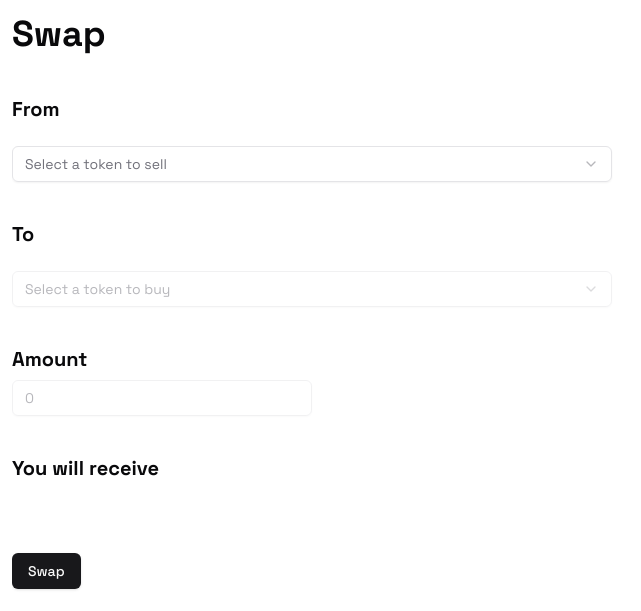
Scenario: Swap preparation › should display the balance related to the token selected to sell
The image size is (641, 611).
What coordinates should you click on to do the following:
click the dropdown named "from-token-select"
I would click on:
 (96, 164)
Its box is top-left (12, 146), bottom-right (612, 182).
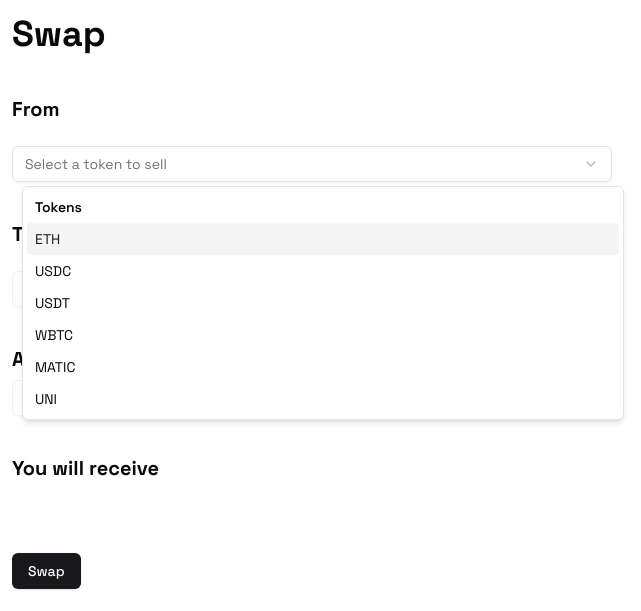
What coordinates should you click on to do the following:
click the option "USDC"
I would click on:
 (53, 271)
Its box is top-left (35, 262), bottom-right (71, 280).
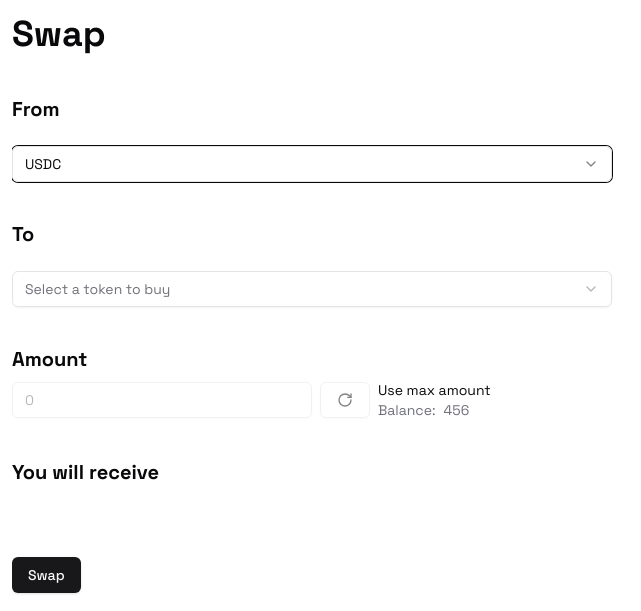
Expected: the text "456" is shown, top-left (444, 400), bottom-right (469, 420)
